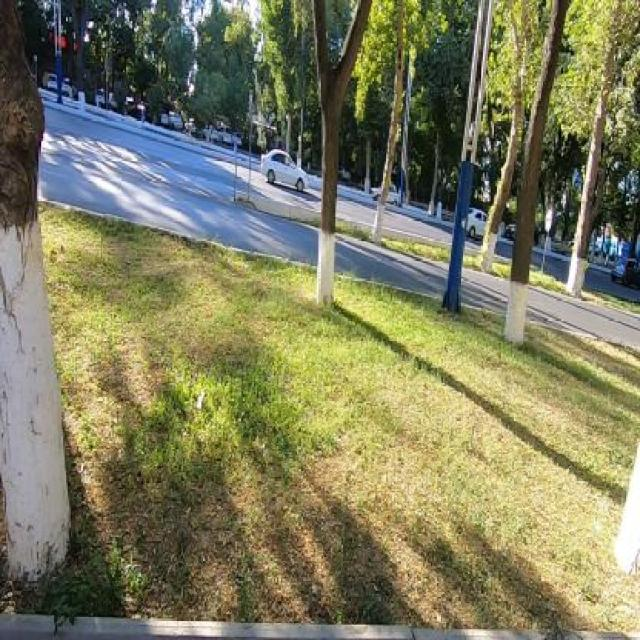tree trunk: (0, 23, 69, 599), (516, 18, 561, 354), (568, 25, 615, 318), (309, 11, 345, 312), (372, 6, 406, 251), (482, 23, 513, 274)
